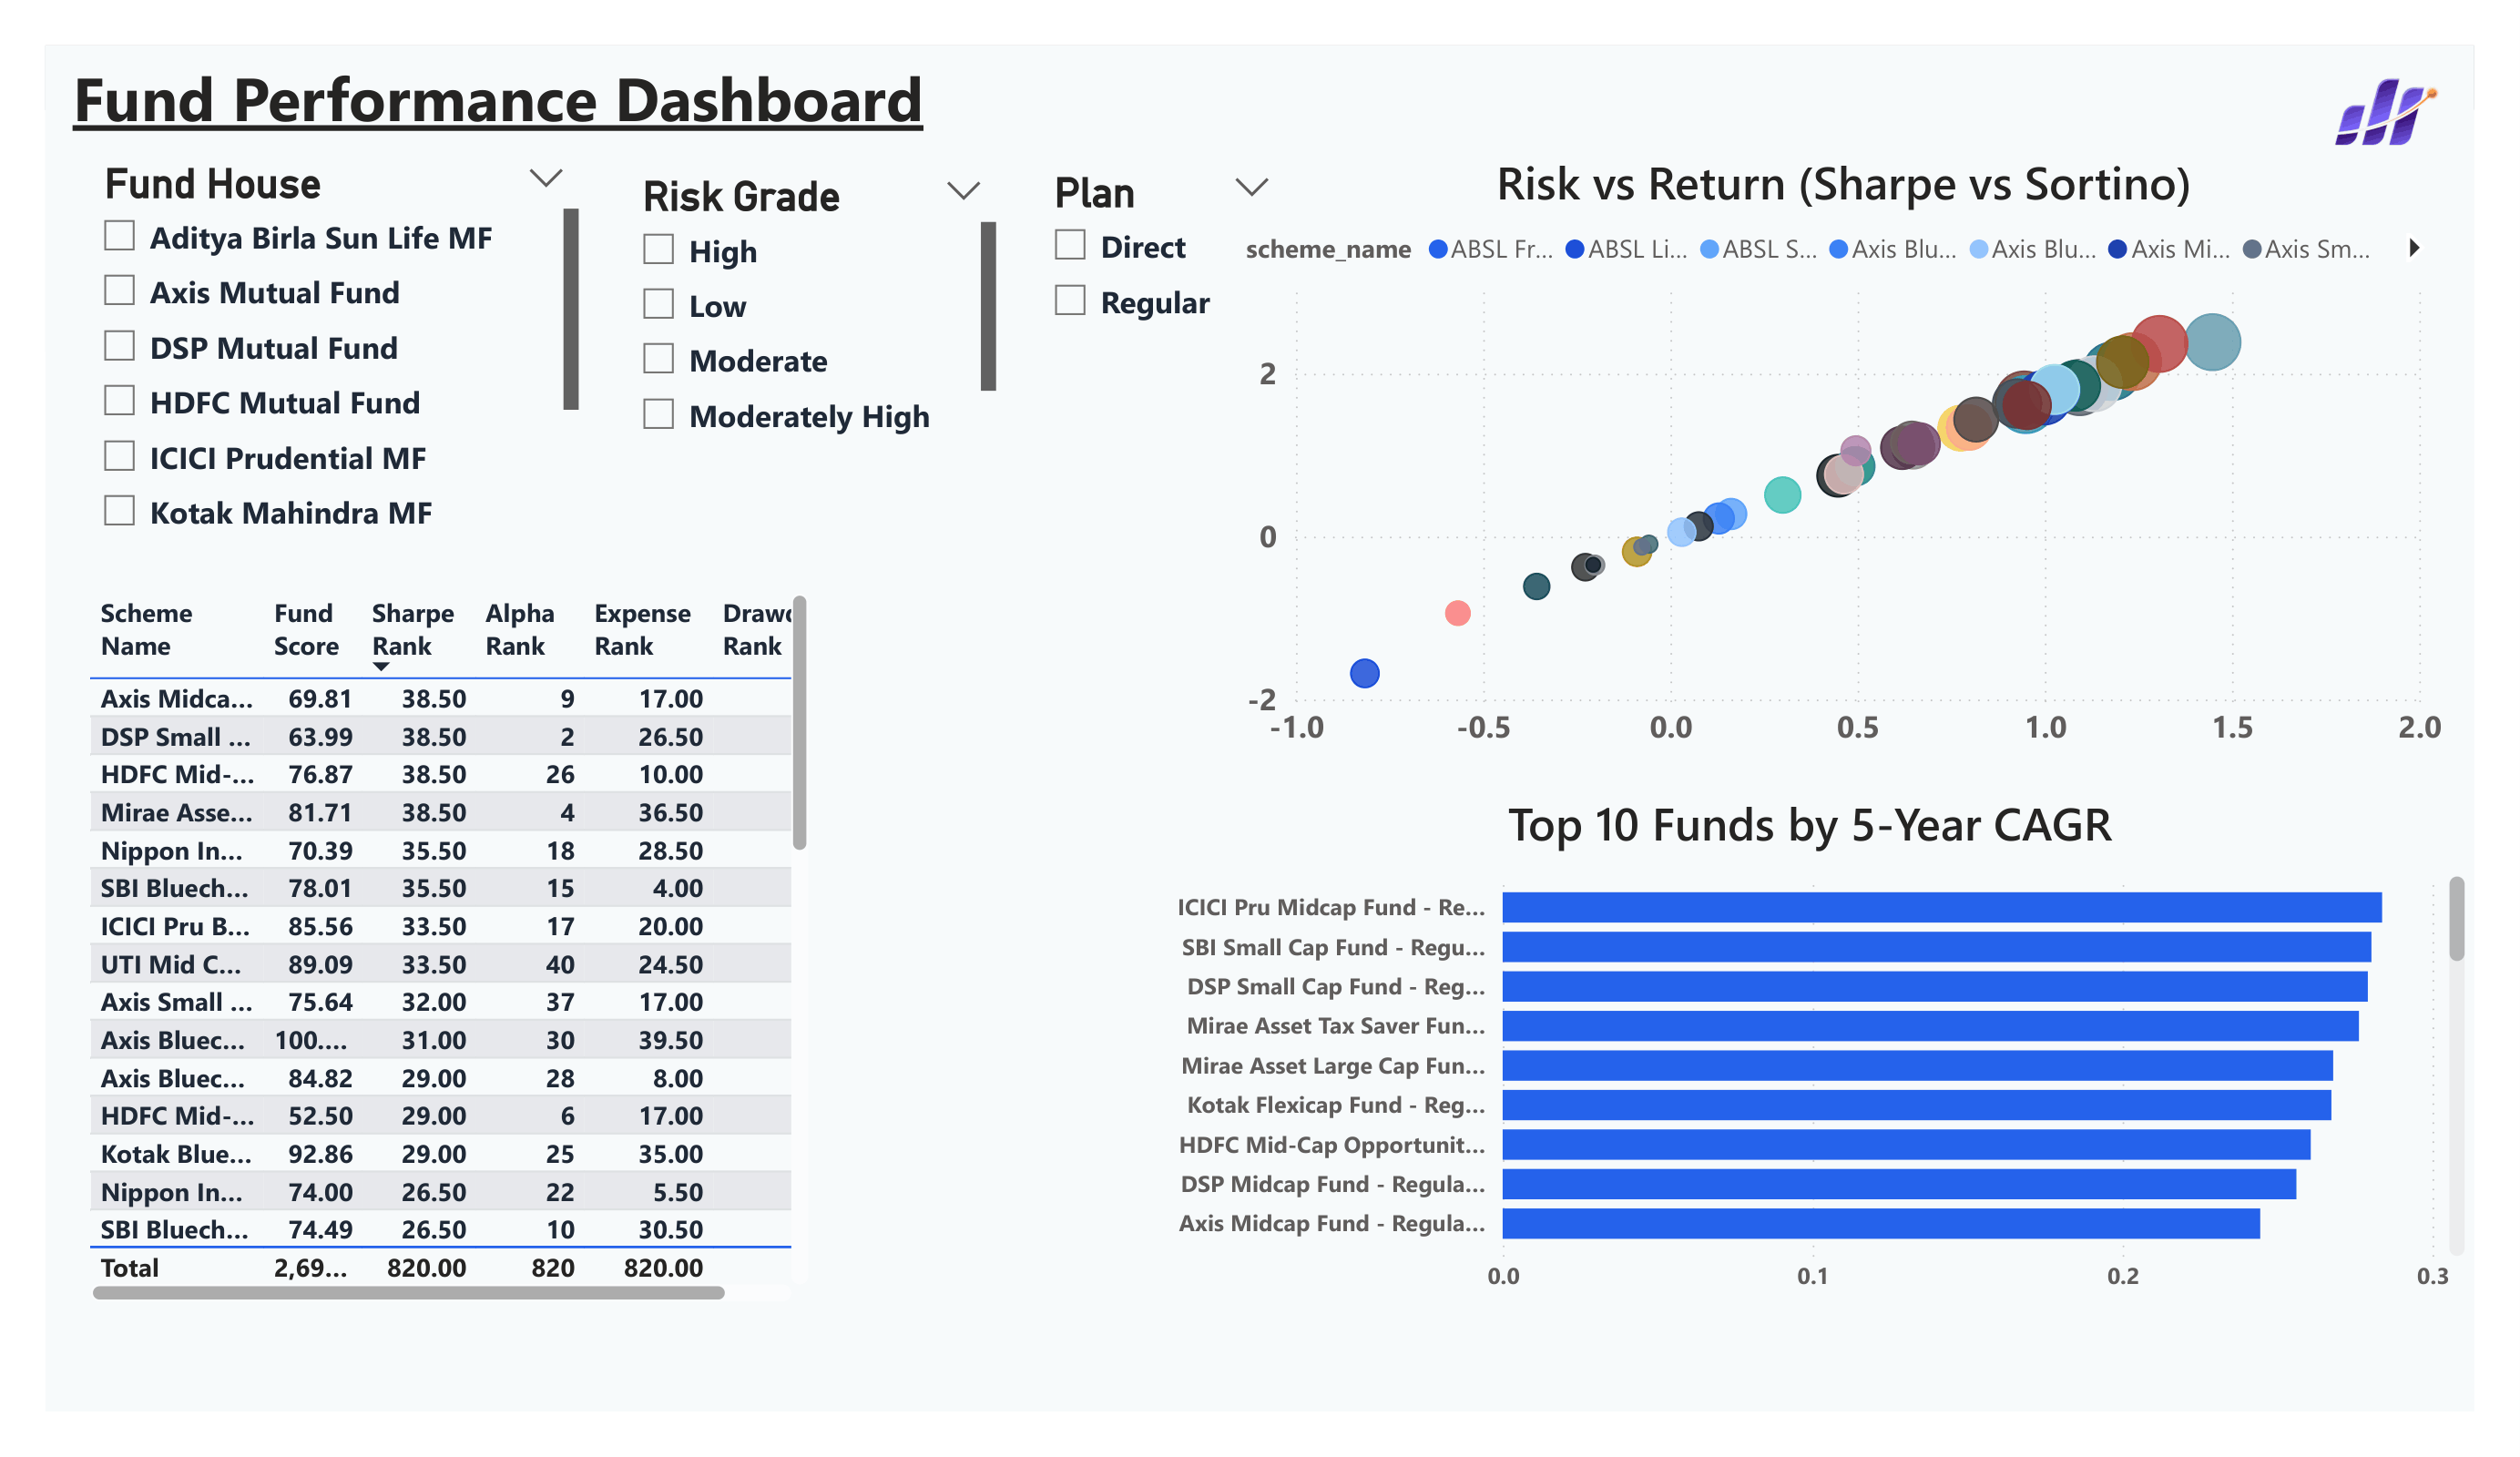

This screenshot's page, from the dashboard's own definition file:
{"tool":"powerbi","page":{"name":"Fund Performance","canvas":[1280,720],"ordinal":1},"visuals":[{"type":"textbox","box":[0,0,477.1,62.2],"z":0},{"type":"clusteredBarChart","title":"Top 10 Funds by 5-Year CAGR","fields":{"Category":["cagr_comparison.scheme_name"],"Y":["Sum(cagr_comparison.CAGR_5Y)"]},"box":[579.5,393.1,700.5,273.8],"z":1000},{"type":"scatterChart","title":"Risk vs Return (Sharpe vs Sortino)","fields":{"X":["Sum(risk_metrics.Sharpe_Ratio)"],"Y":["Sum(risk_metrics.Sortino_Ratio)"],"Size":["Sum(cagr_comparison.CAGR_5Y)"],"Series":["risk_metrics.scheme_name"]},"box":[628.2,55.4,640,324.2],"z":2000},{"type":"tableEx","fields":{"Values":["fund_scorecard.scheme_name","Sum(fund_scorecard.Fund_Score)","Sum(fund_scorecard.Sharpe_Rank)","Sum(fund_scorecard.Alpha_Rank)","Sum(fund_scorecard.Expense_Rank)","Sum(fund_scorecard.Drawdown_Rank)"]},"box":[18.5,283.9,388,383],"z":3000},{"type":"slicer","fields":{"Values":["fund_scorecard.fund_house"]},"box":[18.5,55.4,267.1,211.7],"z":4000},{"type":"slicer","fields":{"Values":["fund_scorecard.risk_grade"]},"box":[302.4,62.2,203.3,149.5],"z":5000},{"type":"slicer","fields":{"Values":["fund_scorecard.plan"]},"box":[519.1,60.5,139.4,100.8],"z":6000},{"type":"image","box":[1185.9,0,94.1,70.6],"z":6002}]}

Visuals, with their boxes on the page's 1280x720 design canvas (x1, y1, x2, y2). These are canvas units, not pixel positions in the 2520x1457 screenshot, which may show the page scaled, cropped or inside an application window:
textbox: pyautogui.locateOnScreen(0, 0, 477, 62)
"Top 10 Funds by 5-Year CAGR" clusteredBarChart: pyautogui.locateOnScreen(580, 393, 1280, 667)
"Risk vs Return (Sharpe vs Sortino)" scatterChart: pyautogui.locateOnScreen(628, 55, 1268, 380)
tableEx - fund_scorecard.scheme_name x Sum(fund_scorecard.Fund_Score): pyautogui.locateOnScreen(18, 284, 406, 667)
slicer - fund_scorecard.fund_house: pyautogui.locateOnScreen(18, 55, 286, 267)
slicer - fund_scorecard.risk_grade: pyautogui.locateOnScreen(302, 62, 506, 212)
slicer - fund_scorecard.plan: pyautogui.locateOnScreen(519, 60, 658, 161)
image: pyautogui.locateOnScreen(1186, 0, 1280, 71)
